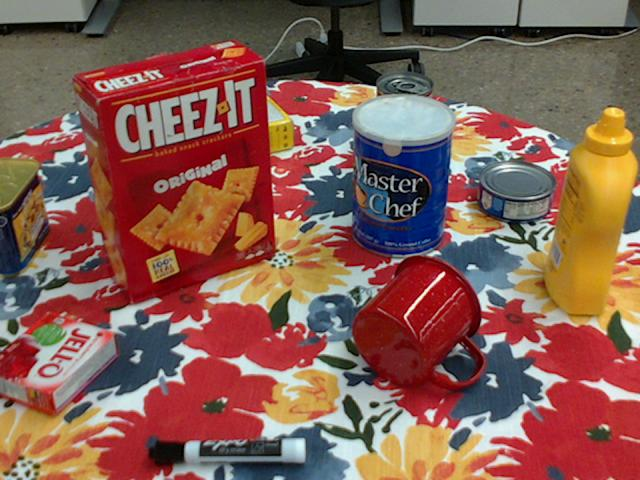cracker_box: (71, 40, 271, 301)
gelatin_box: (0, 312, 118, 415)
large_marker: (149, 438, 306, 464)
master_chef_can: (352, 94, 455, 259)
mug: (353, 254, 484, 387)
mustard_bottle: (542, 109, 634, 314)
potted_meat_can: (0, 156, 46, 275)
sugar_box: (132, 93, 291, 178)
tomato_soup_can: (373, 72, 432, 172)
tuna_fish_can: (477, 162, 556, 224)
